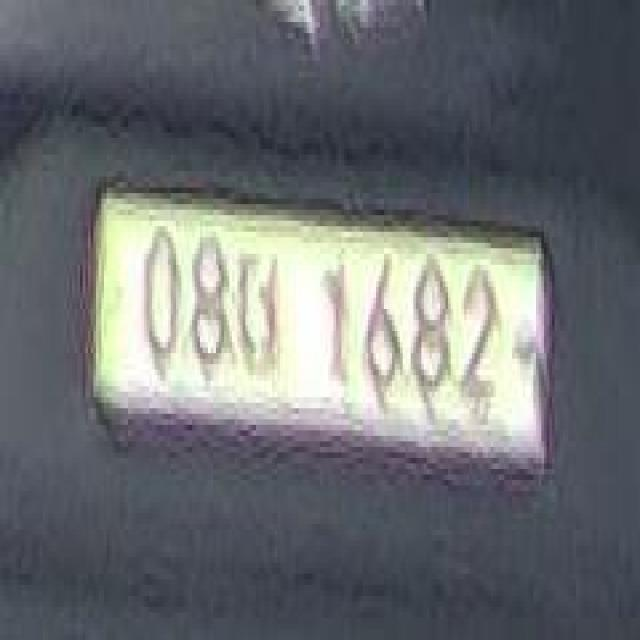illegal_plate: (90, 176, 548, 485)
